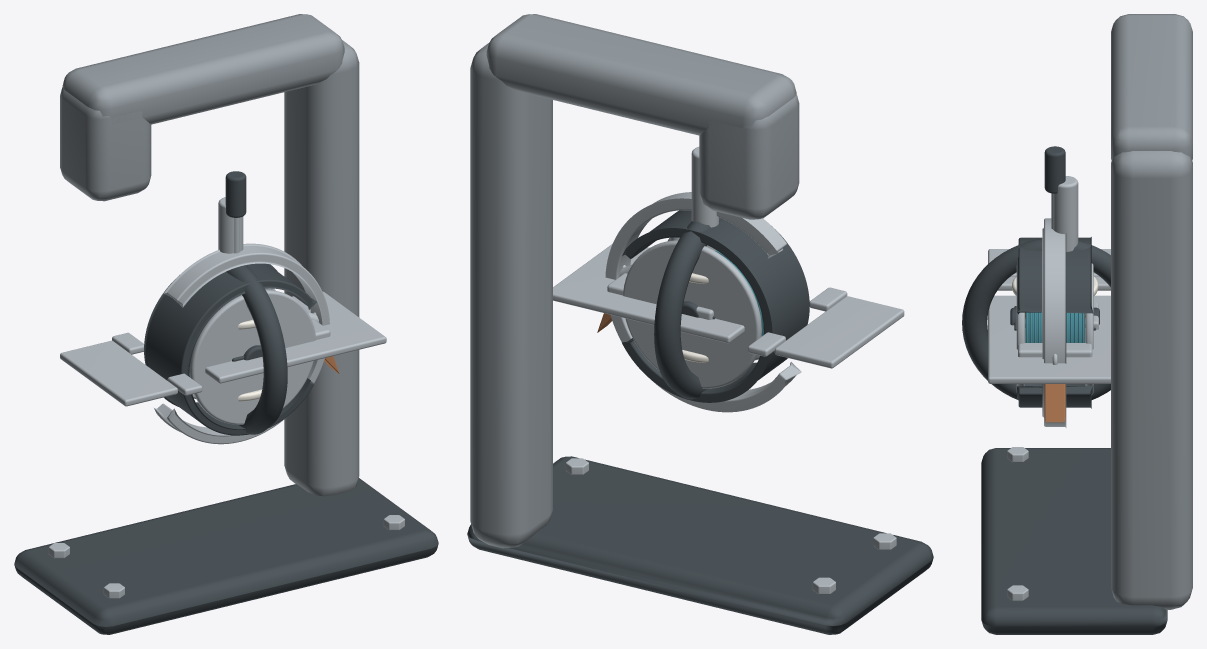
File: sewing-machine.glb
The picture shows the model from 3 angles, left to right: view 1: azimuth 30°, elevation 25°; view 2: azimuth 150°, elevation 25°; view 3: azimuth 270°, elevation 25°; orthographic projection. The views are drawn at different scales.
Visible parts, largest first — view 1: SewingFrame, ThroatPlate, BobbinCase, Bobbin, ShuttleHook, Handwheel, Needle, NeedleBar; view 2: SewingFrame, ThroatPlate, Bobbin, BobbinCase, ShuttleHook, Handwheel, NeedleBar; view 3: SewingFrame, ThroatPlate, BobbinCase, Handwheel, ShuttleHook, Bobbin, NeedleBar, Needle.
Boxes of the visible parts, x1,y1,x2,y2 form: SewingFrame: (14,14,438,634); ThroatPlate: (60,291,386,406); BobbinCase: (144,263,330,435); Bobbin: (189,288,315,424); ShuttleHook: (154,243,339,444); Handwheel: (226,265,287,434); Needle: (225,171,246,253); NeedleBar: (218,197,243,253); SewingFrame: (467,14,933,634); ThroatPlate: (553,244,904,368); Bobbin: (623,237,763,388); BobbinCase: (607,210,809,402); ShuttleHook: (597,192,801,412); Handwheel: (654,217,723,399); NeedleBar: (691,147,718,250); SewingFrame: (981,14,1192,634); ThroatPlate: (988,249,1110,383); BobbinCase: (1017,237,1093,408); Handwheel: (962,239,1110,399); ShuttleHook: (1042,218,1066,427); Bobbin: (1010,263,1099,394); NeedleBar: (1053,176,1078,251); Needle: (1044,146,1065,229).
Bounding box in the file's own units: 2.7 × 3.64 × 1.55.
